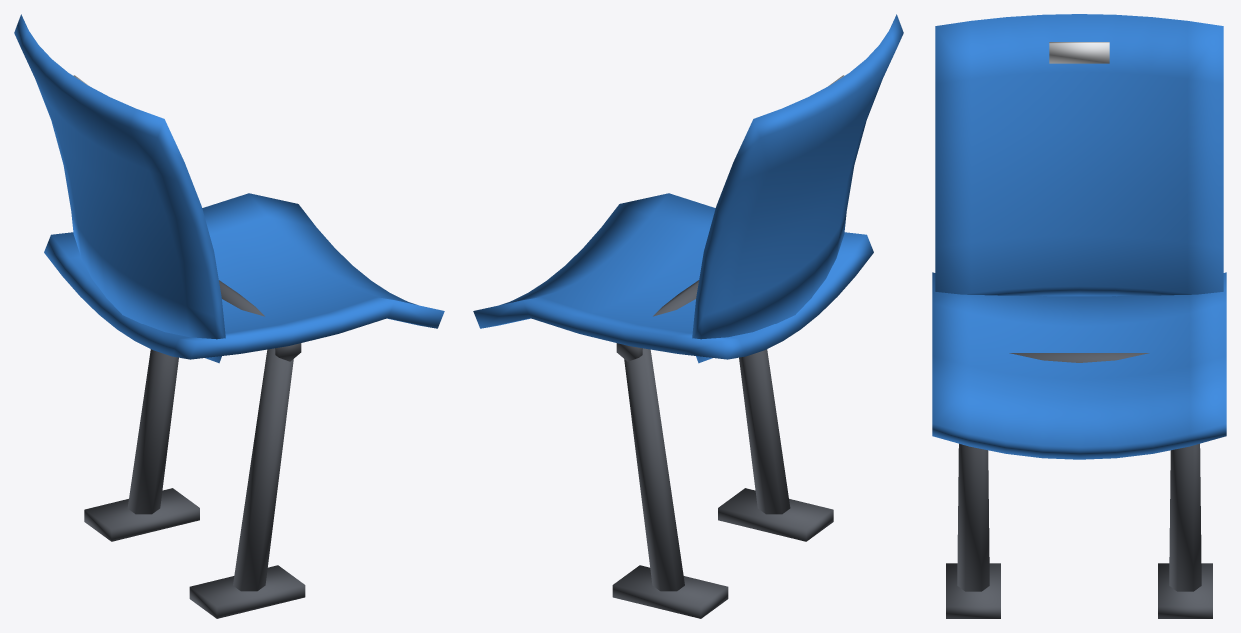
The model's file is seat_lod1.glb.
The picture shows the model from 3 angles, left to right: view 1: azimuth 30°, elevation 25°; view 2: azimuth 150°, elevation 25°; view 3: azimuth 270°, elevation 25°; orthographic projection.
Parts seen in each view (by area): view 1: SEAT_MASTER_LOD1; view 2: SEAT_MASTER_LOD1; view 3: SEAT_MASTER_LOD1.
Part boxes in pixels (left/top/right/bottom): SEAT_MASTER_LOD1: left=14, top=14, right=444, bottom=618; SEAT_MASTER_LOD1: left=473, top=14, right=903, bottom=618; SEAT_MASTER_LOD1: left=932, top=14, right=1226, bottom=618.
Bounding box in the file's own units: 0.527 × 0.843 × 0.43.
